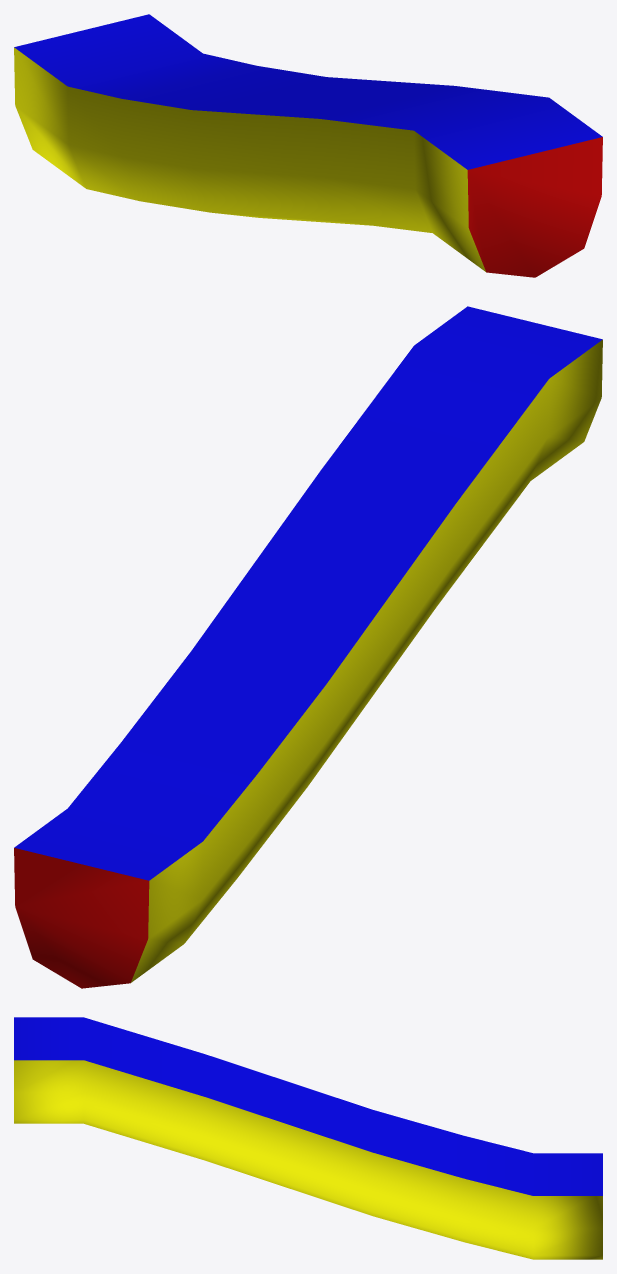
3 views of the same model, one above another, from view 1: azimuth 30°, elevation 25°; view 2: azimuth 150°, elevation 25°; view 3: azimuth 270°, elevation 25° (orthographic). The views are drawn at different scales.
Visible parts, largest first — view 1: polySurface106; view 2: polySurface106; view 3: polySurface106.
Part boxes in pixels (left/top/right/bottom): polySurface106: left=14, top=14, right=602, bottom=277; polySurface106: left=14, top=306, right=602, bottom=988; polySurface106: left=14, top=1017, right=602, bottom=1259.
Size of the model in its own units: 23.58 by 55.55 by 137.
